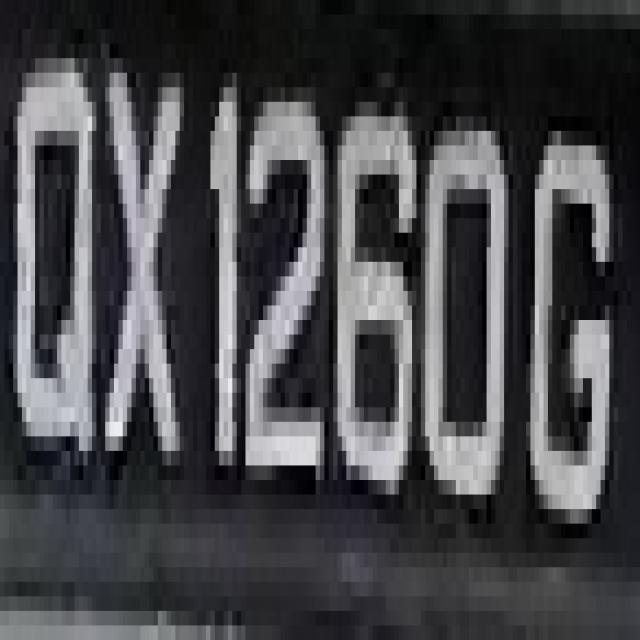0: (421, 72, 508, 524)
1: (210, 14, 246, 494)
2: (228, 87, 324, 509)
6: (324, 73, 421, 509)
G: (522, 73, 614, 567)
Q: (4, 44, 101, 480)
X: (96, 44, 193, 509)
